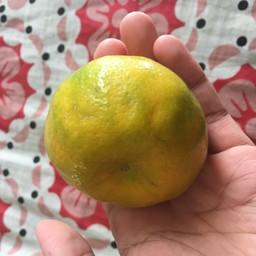Good_orange: (38, 51, 213, 208)
